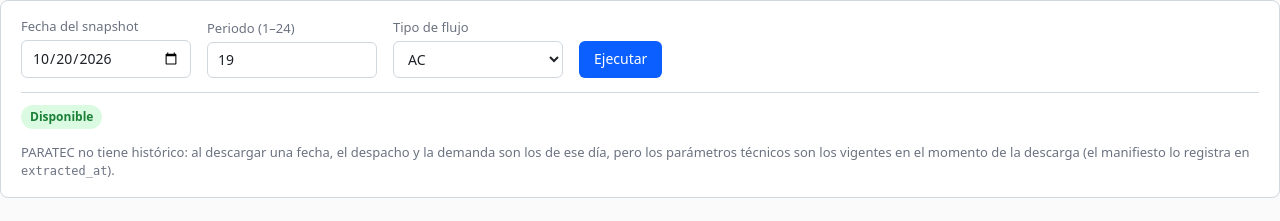
Test case: RunPicker › ofrece descargar una fecha sin snapshot y la deja lista al terminar (FR-038)
Type "2026-10-15" into the date field with test id "snapshot-date" at (106, 59), box left=21, top=40, right=191, bottom=78
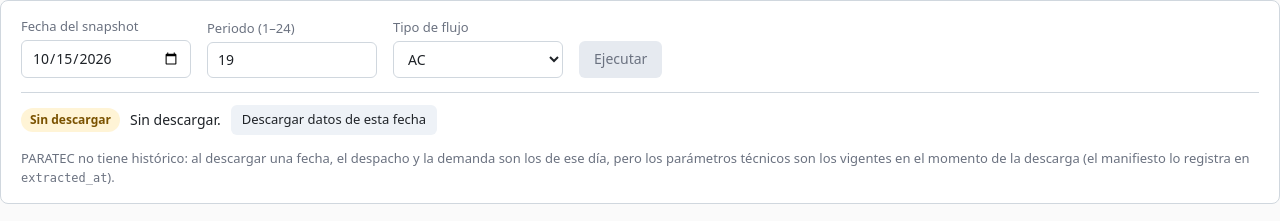
Result: the button with test id "run-button" is disabled at left=579, top=41, right=662, bottom=78
Click the button with test id "scrape-button" at (334, 120), box left=231, top=105, right=437, bottom=135
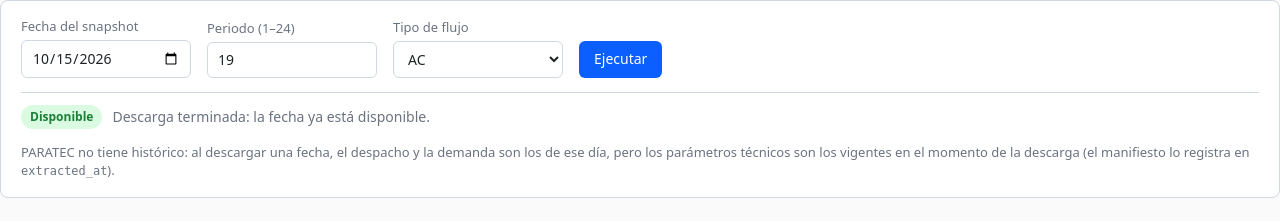
Result: the text "Descarga terminada: la fecha ya está disponible." is shown at left=112, top=107, right=430, bottom=127
Result: the button with test id "run-button" is enabled at left=579, top=41, right=662, bottom=78
